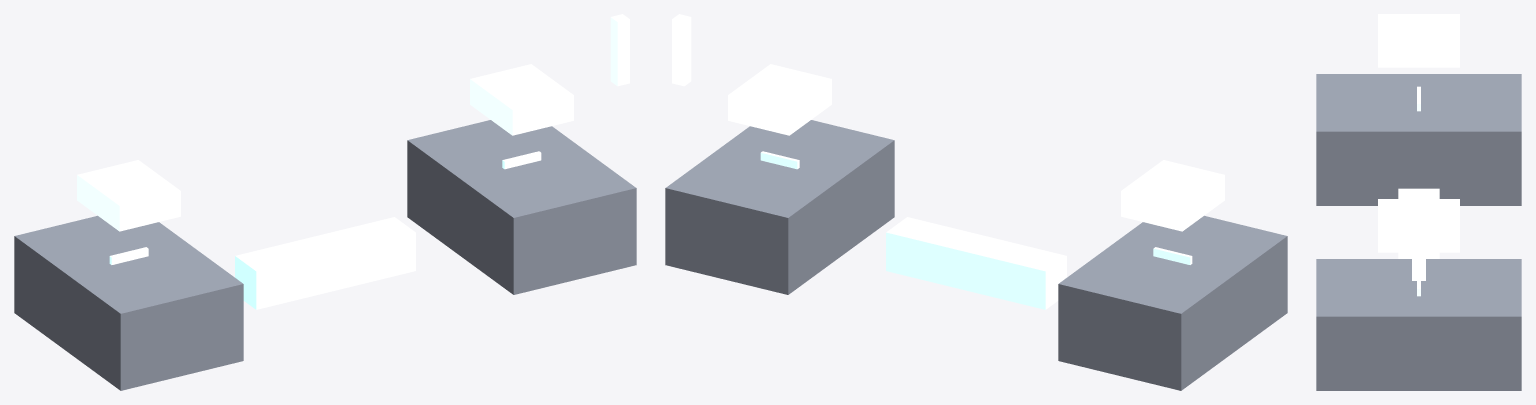
The model's file is drone_ab.glb.
3 renders of one model, left to right at view 1: azimuth 30°, elevation 25°; view 2: azimuth 150°, elevation 25°; view 3: azimuth 270°, elevation 25°, orthographic. The views are drawn at different scales.
Visible parts, largest first — view 1: pod_r, pod_l, beam, top_l, top_r, asym_ant; view 2: pod_r, pod_l, beam, top_l, top_r, asym_ant; view 3: pod_r, pod_l, top_l, top_r, asym_ant, beam.
Part boxes in pixels (x1,y1,x2,y2): pod_r: (407, 120, 636, 294); pod_l: (14, 215, 243, 390); beam: (235, 217, 415, 309); top_l: (77, 160, 180, 231); top_r: (470, 64, 573, 135); asym_ant: (610, 14, 629, 86); pod_r: (665, 120, 894, 294); pod_l: (1058, 215, 1287, 390); beam: (886, 217, 1066, 309); top_l: (1121, 160, 1224, 231); top_r: (728, 64, 831, 135); asym_ant: (672, 14, 691, 86); pod_r: (1316, 259, 1521, 390); pod_l: (1316, 74, 1521, 205); top_l: (1378, 14, 1459, 67); top_r: (1378, 199, 1459, 252); asym_ant: (1412, 213, 1425, 280); beam: (1398, 188, 1439, 258).
Size of the model in its own units: 0.455 by 0.155 by 0.15.
